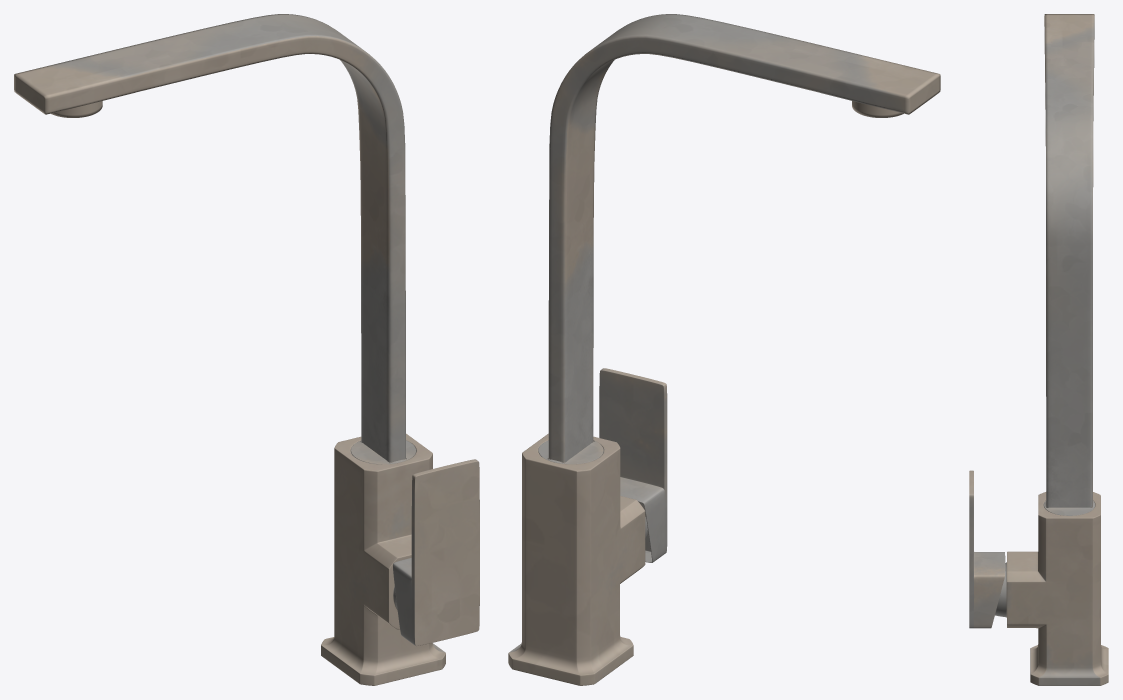
The model's file is tasteful-life.glb.
The picture shows the model from 3 angles, left to right: view 1: azimuth 30°, elevation 25°; view 2: azimuth 150°, elevation 25°; view 3: azimuth 270°, elevation 25°; orthographic projection. The views are drawn at different scales.
Visible parts, largest first — view 1: tasful-life; view 2: tasful-life; view 3: tasful-life.
Boxes of the visible parts, bbox=[...] form: tasful-life: bbox=[14, 14, 479, 685]; tasful-life: bbox=[508, 14, 940, 685]; tasful-life: bbox=[969, 14, 1108, 685].
Size of the model in its own units: 0.23 by 0.366 by 0.089.
1 material, 1 textured.
